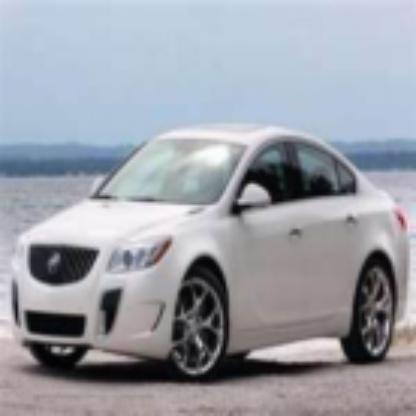Vehicle: (14, 129, 410, 384)
